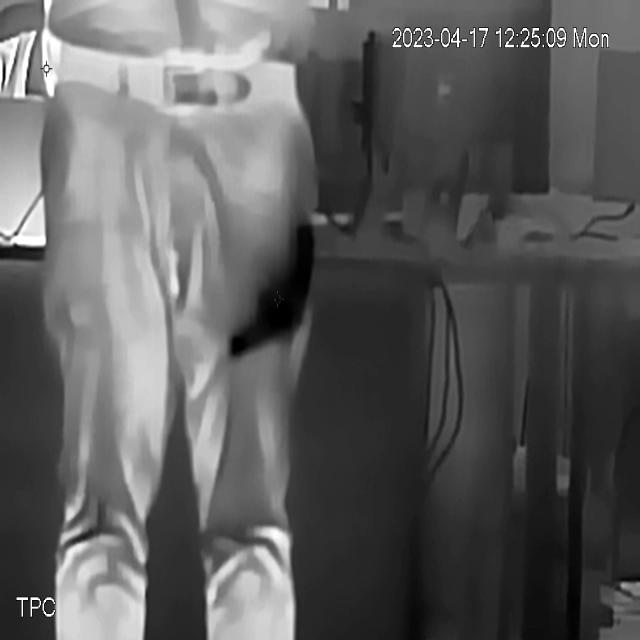Weapon: (203, 200, 342, 368)
